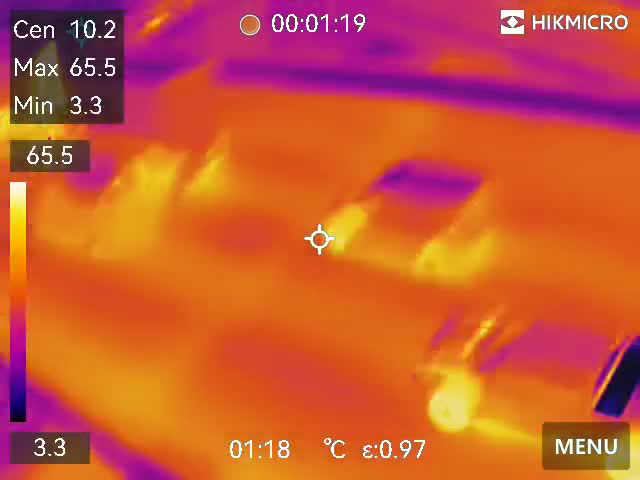lightTruck: (427, 296, 640, 462)
smallCar: (319, 155, 510, 288)
